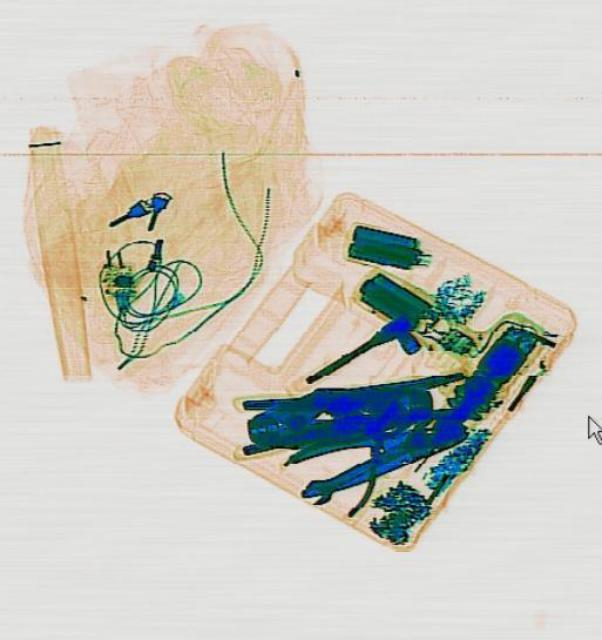Pliers: (276, 393, 470, 502), (232, 374, 434, 460), (240, 380, 402, 456)
Wrench: (300, 441, 398, 505)
